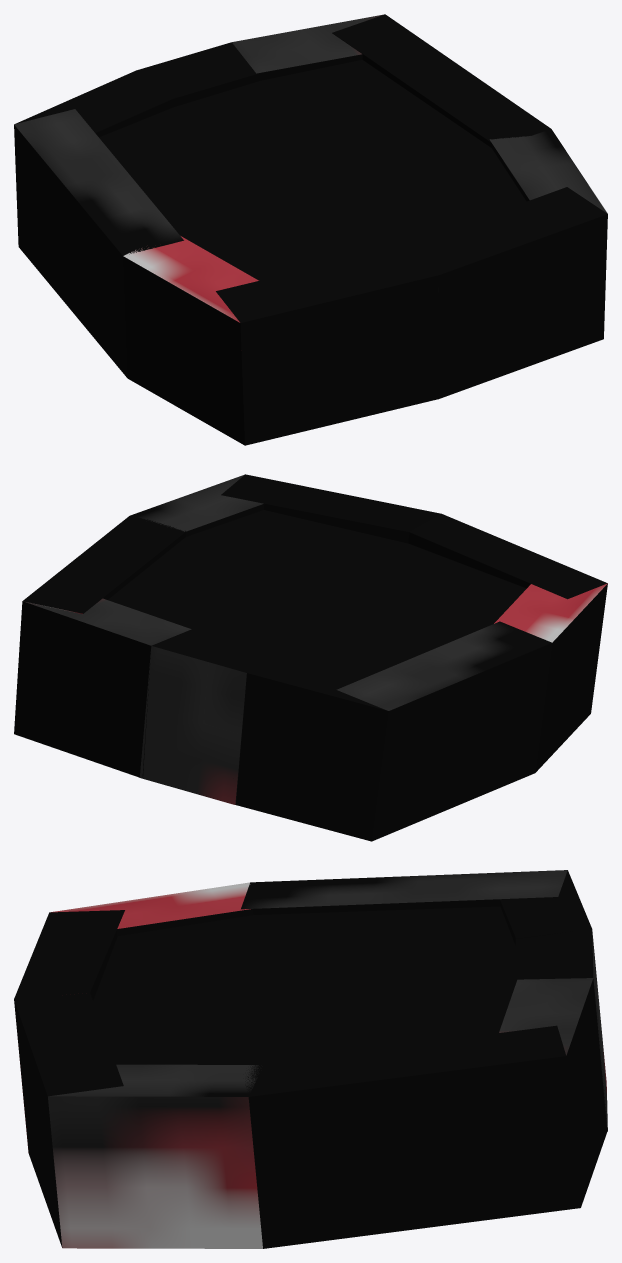
File: cossack_red_h.obj
3 renders of one model, top to bottom at view 1: azimuth 30°, elevation 25°; view 2: azimuth 150°, elevation 25°; view 3: azimuth 270°, elevation 25°, orthographic. The views are drawn at different scales.
Parts seen in each view (by area): view 1: mesh; view 2: mesh; view 3: mesh.
Boxes of the visible parts, x1,y1,x2,y2 form: mesh: (14, 14, 607, 445); mesh: (14, 474, 607, 841); mesh: (14, 870, 607, 1248).
Bounding box in the file's own units: 0.6987 × 0.2879 × 0.7223.
